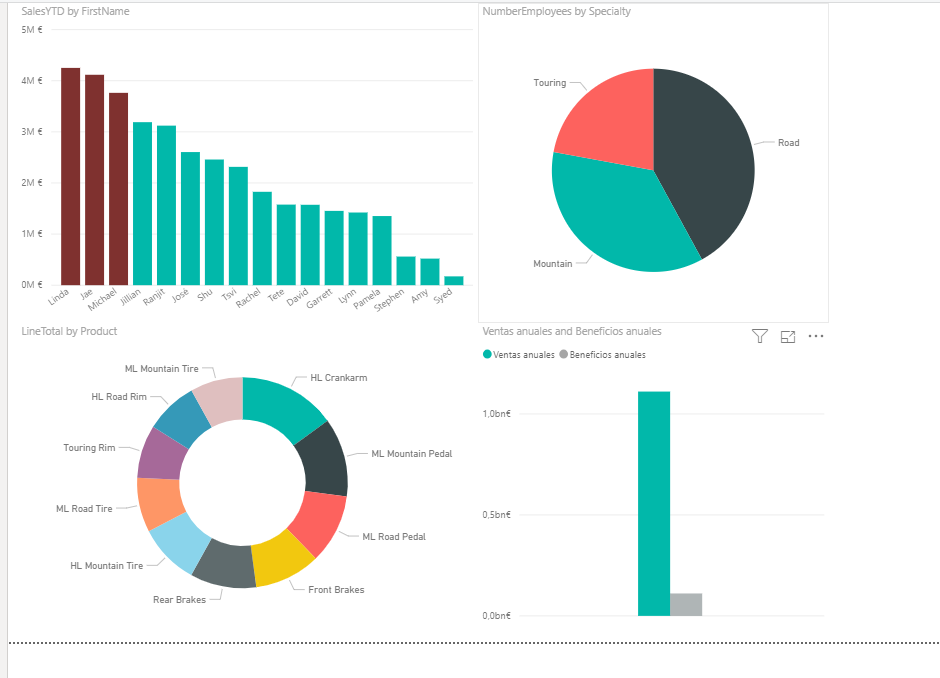

The page's visual inventory and layout, read from the dashboard file:
{"tool":"powerbi","page":{"name":"Ventas","canvas":[1280,720],"ordinal":0},"visuals":[{"type":"columnChart","fields":{"Y":["Sales vSalesPerson.SalesYTD"],"Category":["Sales vSalesPerson.FirstName"]},"box":[10.1,0,519.4,360.6],"z":0},{"type":"donutChart","fields":{"Category":["Top 10 Productos Vendidos.Product"],"Y":["Top 10 Productos Vendidos.LineTotal"]},"box":[10.1,360.6,508.2,343.7],"z":3},{"type":"clusteredColumnChart","fields":{"Y":["Sales vStoreWithDemographics.AnnualSales","Sales vStoreWithDemographics.Beneficios anuales"]},"box":[530,361,395,344],"z":4},{"type":"pieChart","fields":{"Category":["Sales vStoreWithDemographics.Specialty"],"Y":["Sales vStoreWithDemographics.NumberEmployees"]},"box":[529.6,0,395.5,360.6],"z":1000}]}

Visuals, with their boxes on the page's 1280x720 design canvas (x1, y1, x2, y2). These are canvas units, not pixel positions in the 940x678 screenshot, which may show the page scaled, cropped or inside an application window:
columnChart - Sales vSalesPerson.SalesYTD x Sales vSalesPerson.FirstName: (x1=10, y1=0, x2=530, y2=361)
donutChart - Top 10 Productos Vendidos.Product x Top 10 Productos Vendidos.LineTotal: (x1=10, y1=361, x2=518, y2=704)
clusteredColumnChart - Sales vStoreWithDemographics.AnnualSales x Sales vStoreWithDemographics.Beneficios anuales: (x1=530, y1=361, x2=925, y2=705)
pieChart - Sales vStoreWithDemographics.Specialty x Sales vStoreWithDemographics.NumberEmployees: (x1=530, y1=0, x2=925, y2=361)
